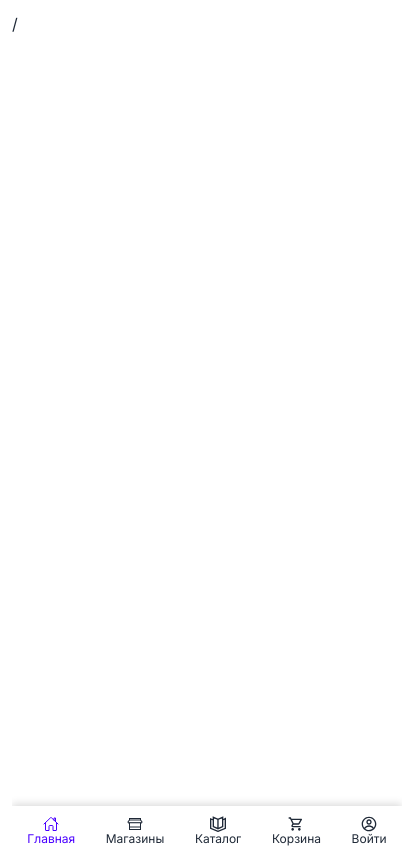
tap-bar component › навигация по клику на табы работает правильно
Step 1. Click the link "Магазины" → (135, 831), box [106, 816, 164, 846]
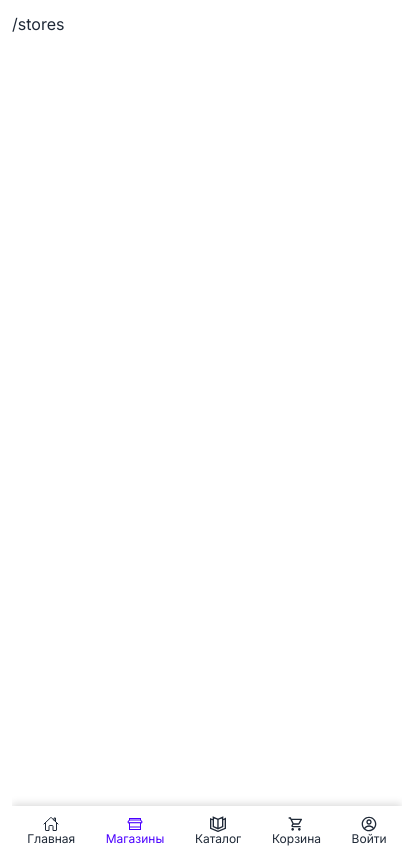
Result: the text with test id "current-path" reads "/stores" at [12, 14, 64, 34]
Step 2. Click the link "Каталог" → (218, 831), box [195, 816, 241, 846]
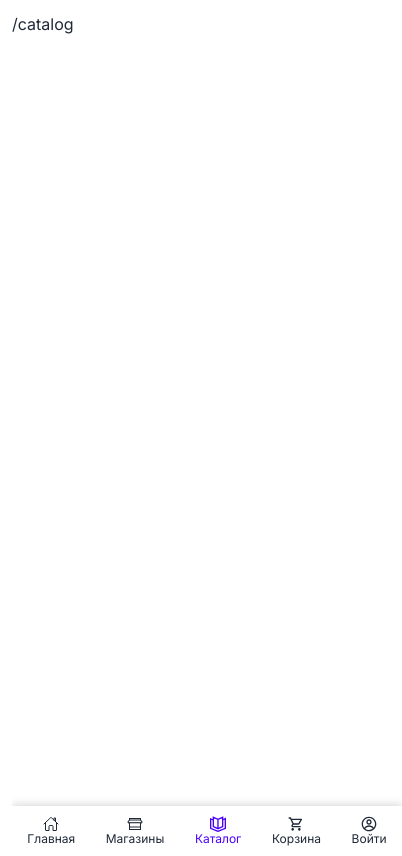
Result: the text with test id "current-path" reads "/catalog" at [12, 14, 74, 34]
Step 3. Click the link "Корзина" → (296, 831), box [272, 816, 321, 846]
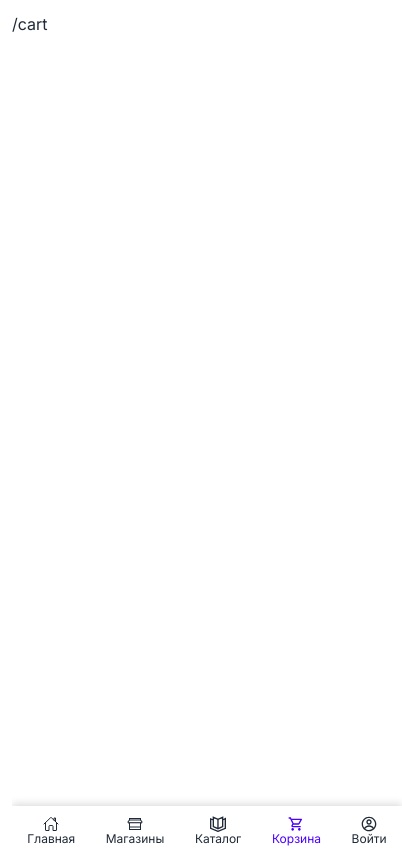
Result: the text with test id "current-path" reads "/cart" at [12, 14, 48, 34]
Step 4. Click the link "Войти" → (369, 831), box [352, 816, 387, 846]
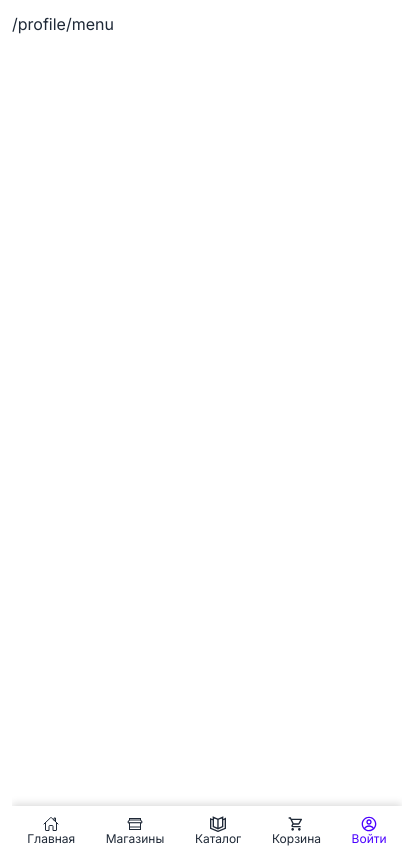
Result: the text with test id "current-path" reads "/profile/menu" at [12, 14, 114, 34]
